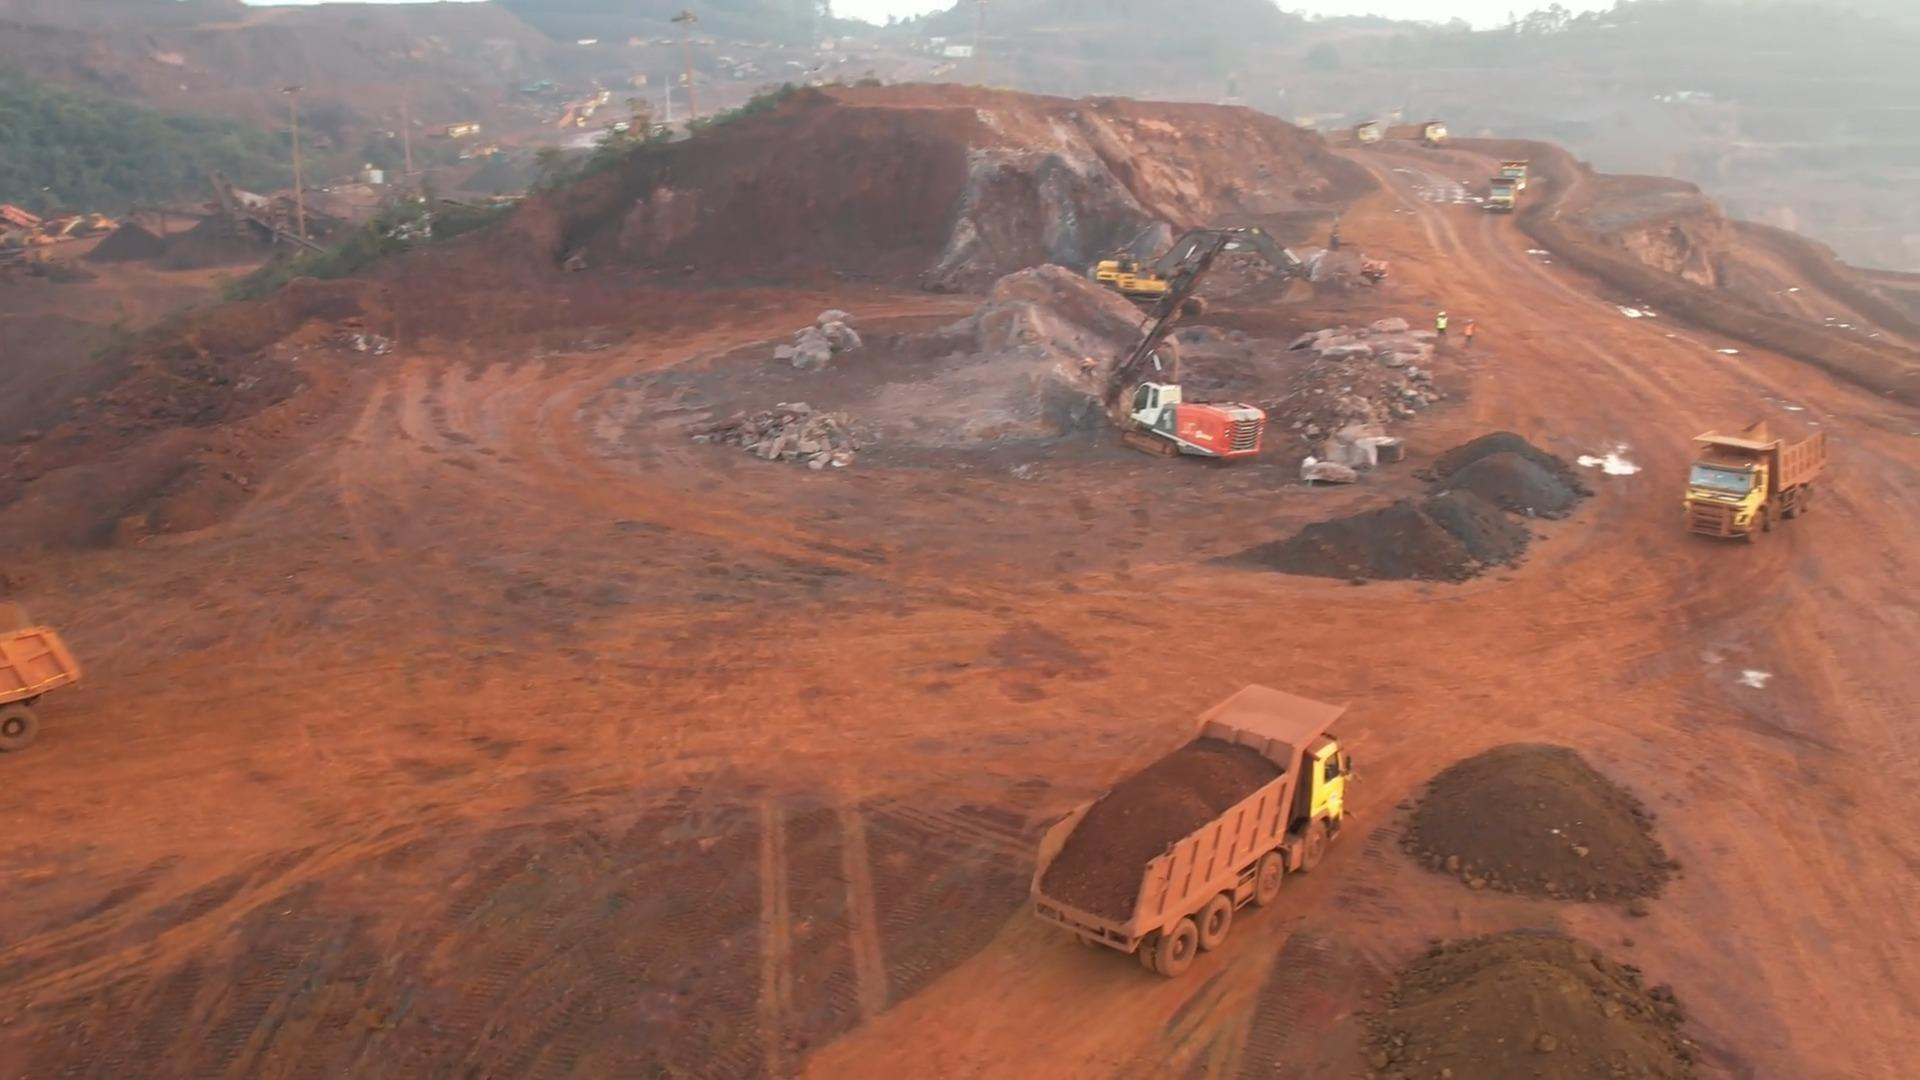excavator: (1101, 225, 1298, 305)
